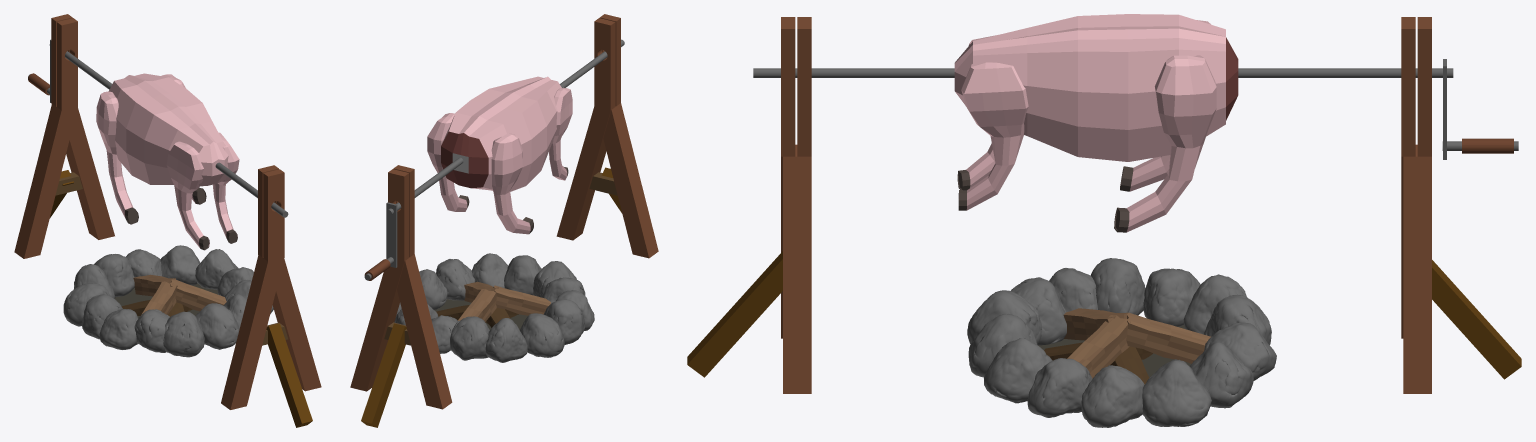
File: dieren spice met dier lod.fbx
3 views of the same model, side by side, from view 1: azimuth 30°, elevation 25°; view 2: azimuth 150°, elevation 25°; view 3: azimuth 270°, elevation 25° (orthographic). The views are drawn at different scales.
Visible parts, largest first — view 1: Cube_LOD0; view 2: Cube_LOD0; view 3: Cube_LOD0.
Part boxes in pixels (bbox=[...]): Cube_LOD0: bbox=[14, 14, 321, 427]; Cube_LOD0: bbox=[350, 14, 658, 427]; Cube_LOD0: bbox=[687, 14, 1521, 427].
Size of what is drawn, in the model's own units: 4.8 by 6.07 by 13.01.
